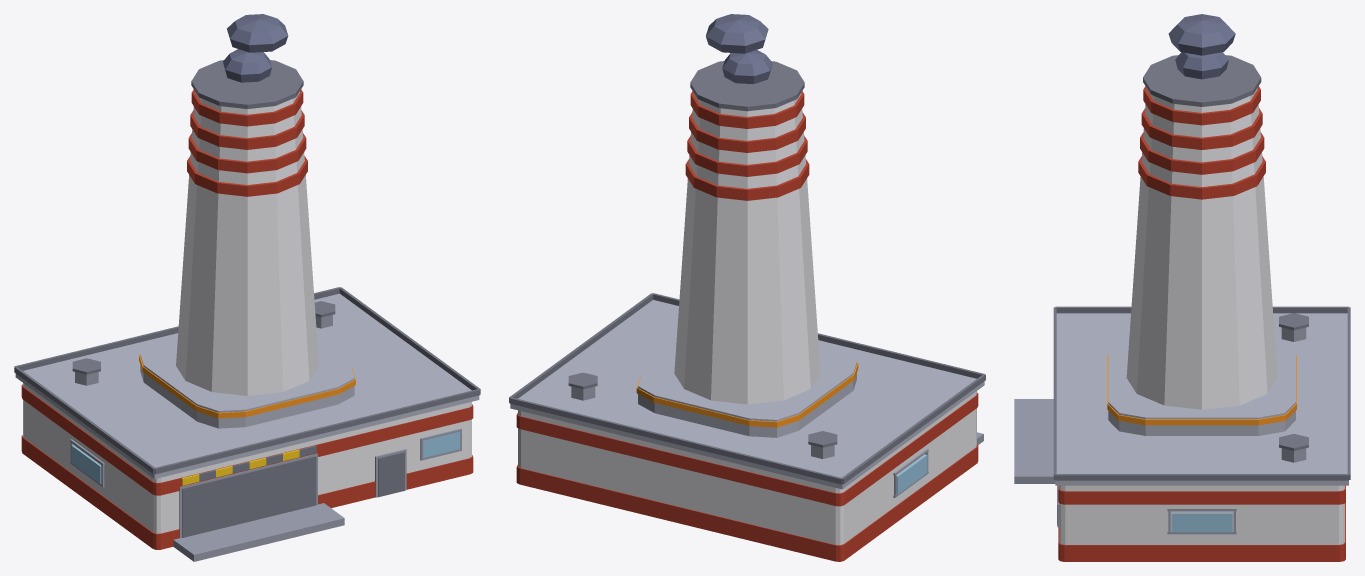
The model's file is incinerator-2x2-t4.glb.
3 renders of one model, left to right at view 1: azimuth 30°, elevation 25°; view 2: azimuth 150°, elevation 25°; view 3: azimuth 270°, elevation 25°, orthographic. The views are drawn at different scales.
Parts seen in each view (by area): view 1: incinerator-2x2-t4; view 2: incinerator-2x2-t4; view 3: incinerator-2x2-t4.
Part boxes in pixels (x1,y1,x2,y2): incinerator-2x2-t4: [14, 14, 480, 561]; incinerator-2x2-t4: [509, 14, 985, 561]; incinerator-2x2-t4: [1014, 14, 1350, 561].
Bounding box in the file's own units: 1.96 × 2.51 × 1.65.
Materials: 1 (1 with a texture image).
